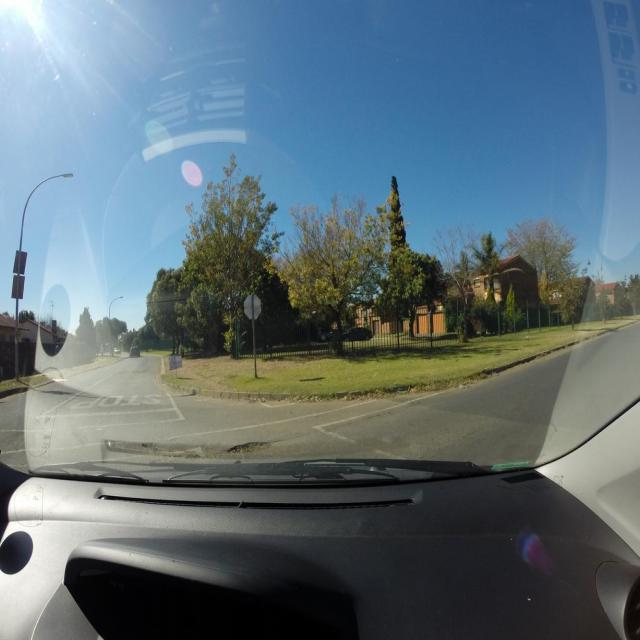Pothole: (227, 442, 270, 453), (132, 371, 145, 373)
